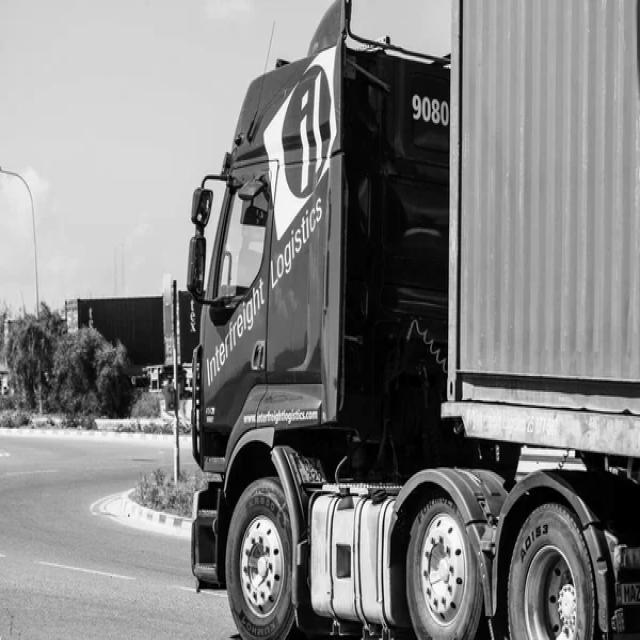Truck: (187, 0, 640, 640)
